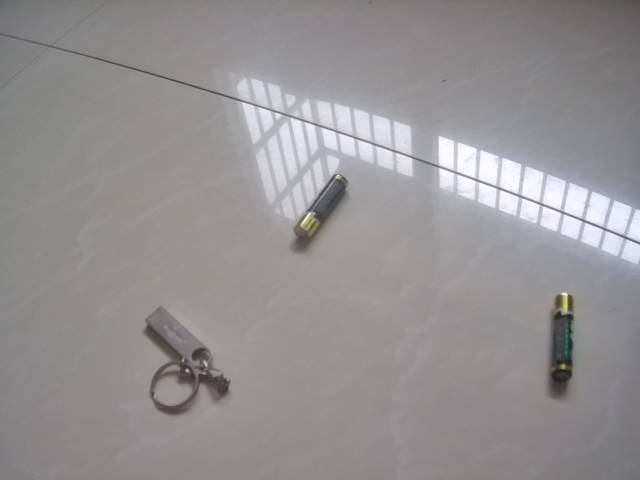U-disk: (133, 297, 240, 427)
battery: (541, 285, 586, 391), (291, 170, 352, 247)
